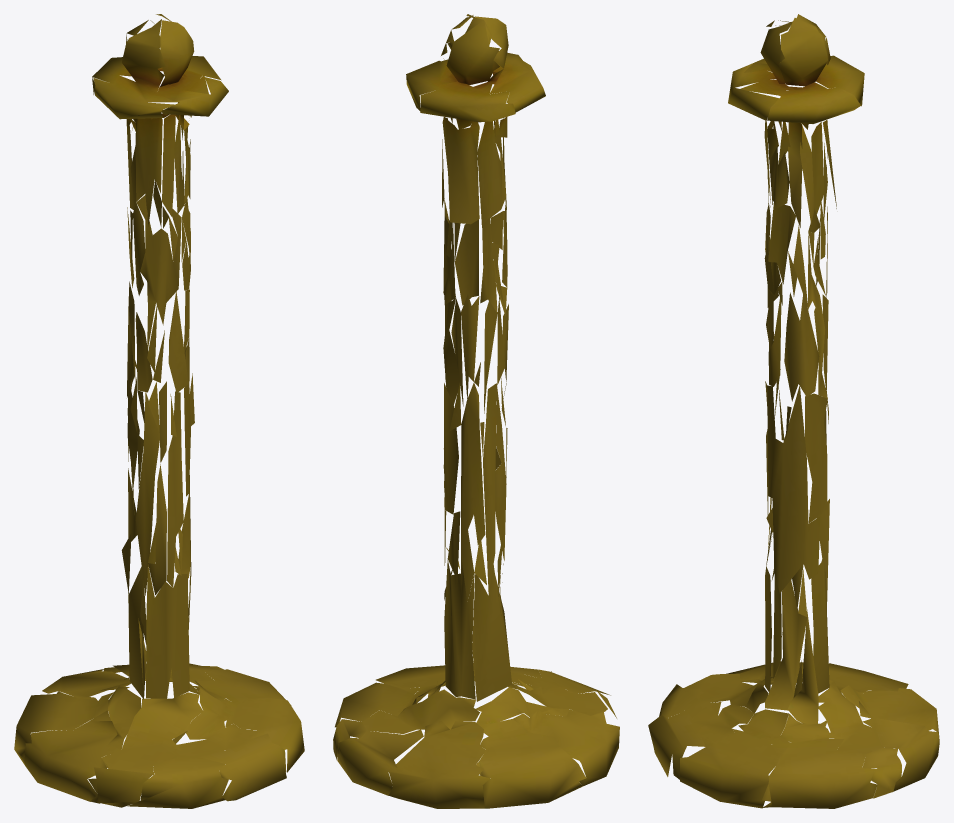
The model's file is penn_stanchion.glb.
3 views of the same model, side by side, from view 1: azimuth 30°, elevation 25°; view 2: azimuth 150°, elevation 25°; view 3: azimuth 270°, elevation 25° (orthographic).
Parts seen in each view (by area): view 1: tripo_node_0fcfefc7-e274-468b-ac40-f5d8c2d3515e; view 2: tripo_node_0fcfefc7-e274-468b-ac40-f5d8c2d3515e; view 3: tripo_node_0fcfefc7-e274-468b-ac40-f5d8c2d3515e.
Boxes of the visible parts, box(x1,y1,x2,y2) form: tripo_node_0fcfefc7-e274-468b-ac40-f5d8c2d3515e: box(14, 14, 304, 808); tripo_node_0fcfefc7-e274-468b-ac40-f5d8c2d3515e: box(333, 14, 619, 808); tripo_node_0fcfefc7-e274-468b-ac40-f5d8c2d3515e: box(648, 14, 939, 808).
Size of the model in its own units: 0.3561 by 1 by 0.3608.
1 material, 1 textured.
